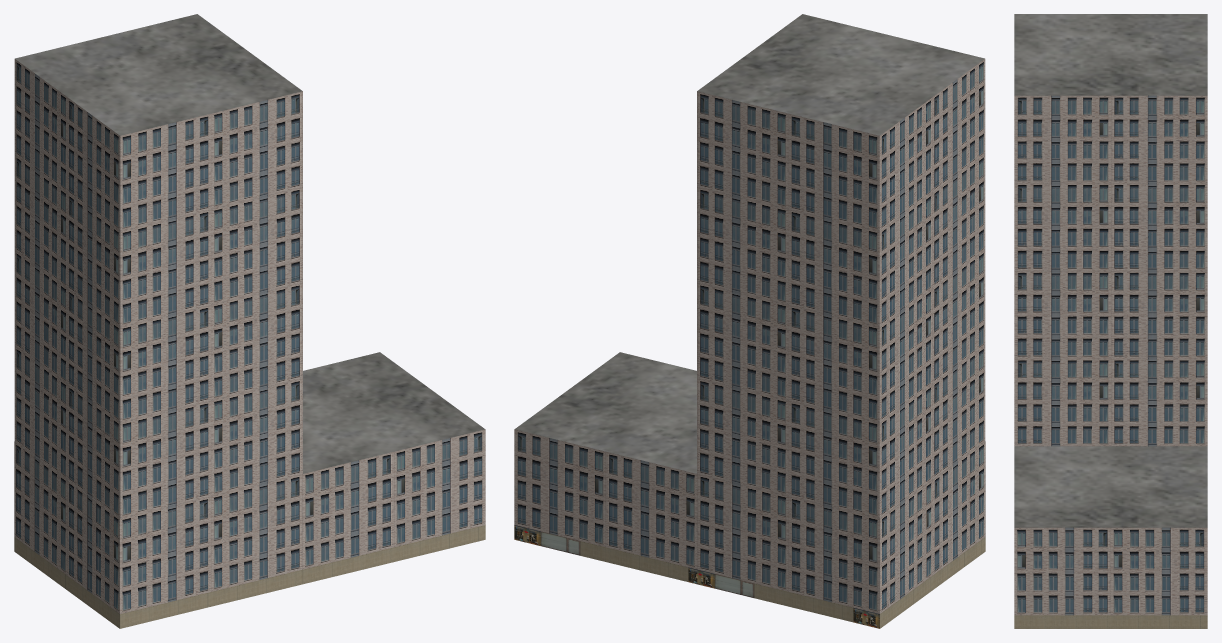
File: Building053.fbx
3 renders of one model, left to right at view 1: azimuth 30°, elevation 25°; view 2: azimuth 150°, elevation 25°; view 3: azimuth 270°, elevation 25°, orthographic. The views are drawn at different scales.
Visible parts, largest first — view 1: Building053; view 2: Building053; view 3: Building053.
Boxes of the visible parts, x1,y1,x2,y2 form: Building053: (14,14,485,628); Building053: (514,14,985,628); Building053: (1014,14,1207,628).
Size of the model in its own units: 63.29 by 81.58 by 31.64.
